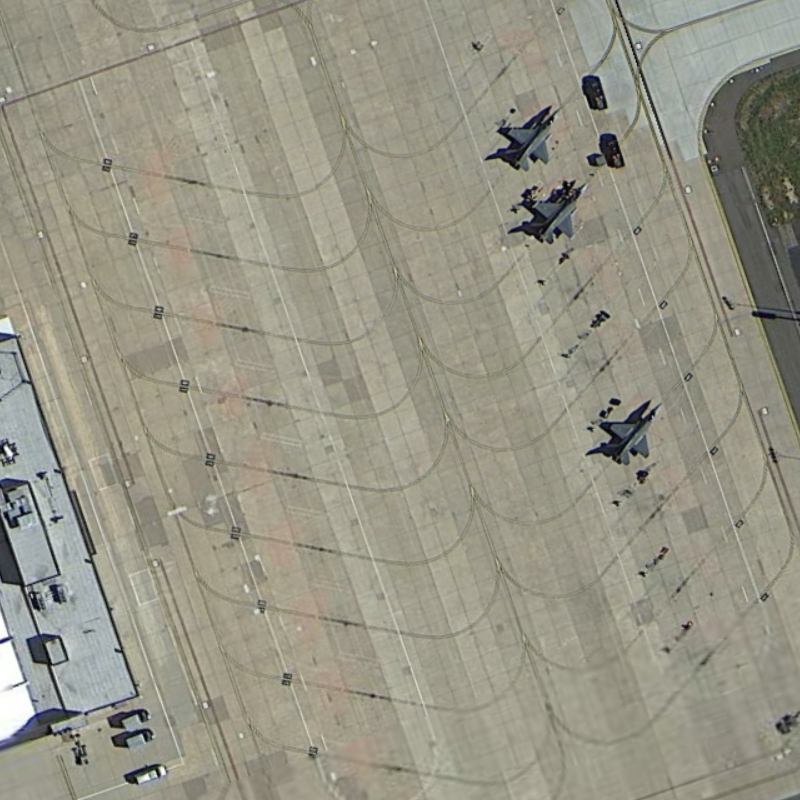A5: (595, 396, 668, 466), (494, 101, 565, 172), (523, 180, 589, 246)
